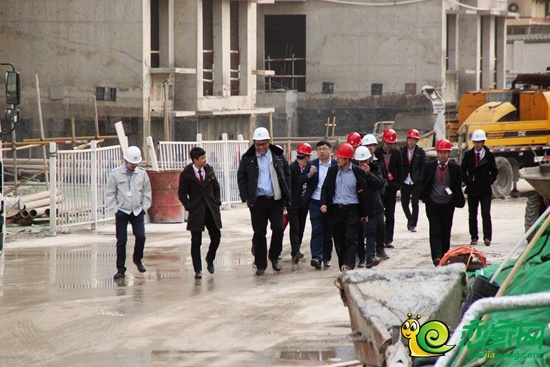none: (189, 148, 207, 166), (316, 139, 331, 160)
red: (434, 138, 453, 163), (336, 144, 353, 167), (295, 140, 312, 161), (381, 128, 398, 149), (406, 128, 419, 147), (346, 132, 360, 149)
white: (251, 126, 270, 154), (352, 145, 371, 166), (123, 145, 140, 168), (470, 128, 486, 150), (361, 132, 376, 153)
